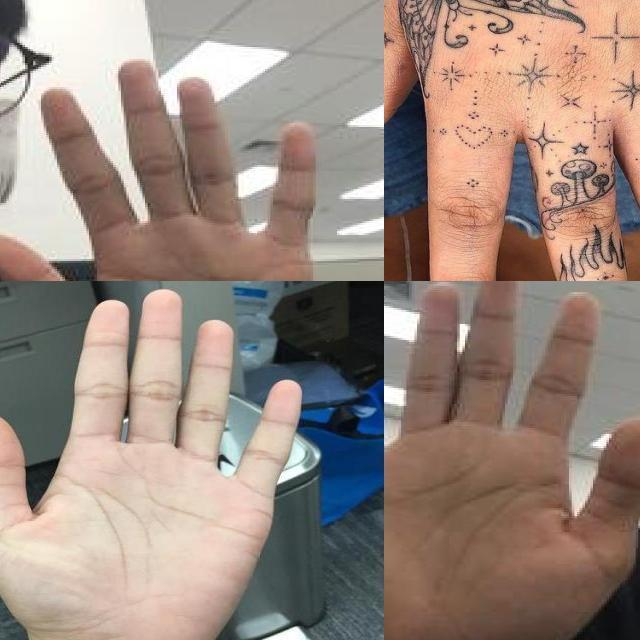no-gloves: (0, 286, 308, 640), (384, 281, 640, 640), (0, 57, 342, 281), (384, 0, 640, 281)
